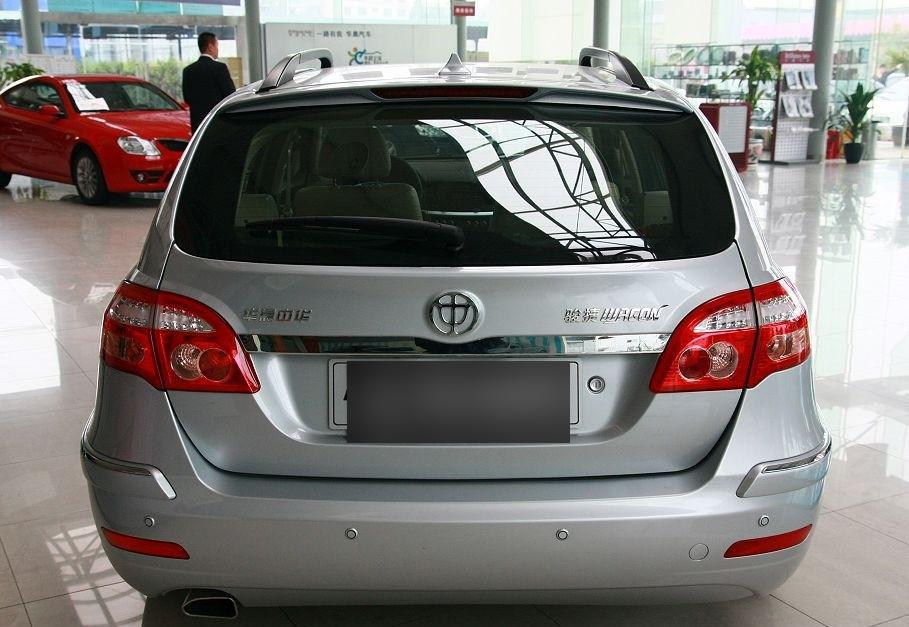Wagon: (81, 47, 831, 604)
